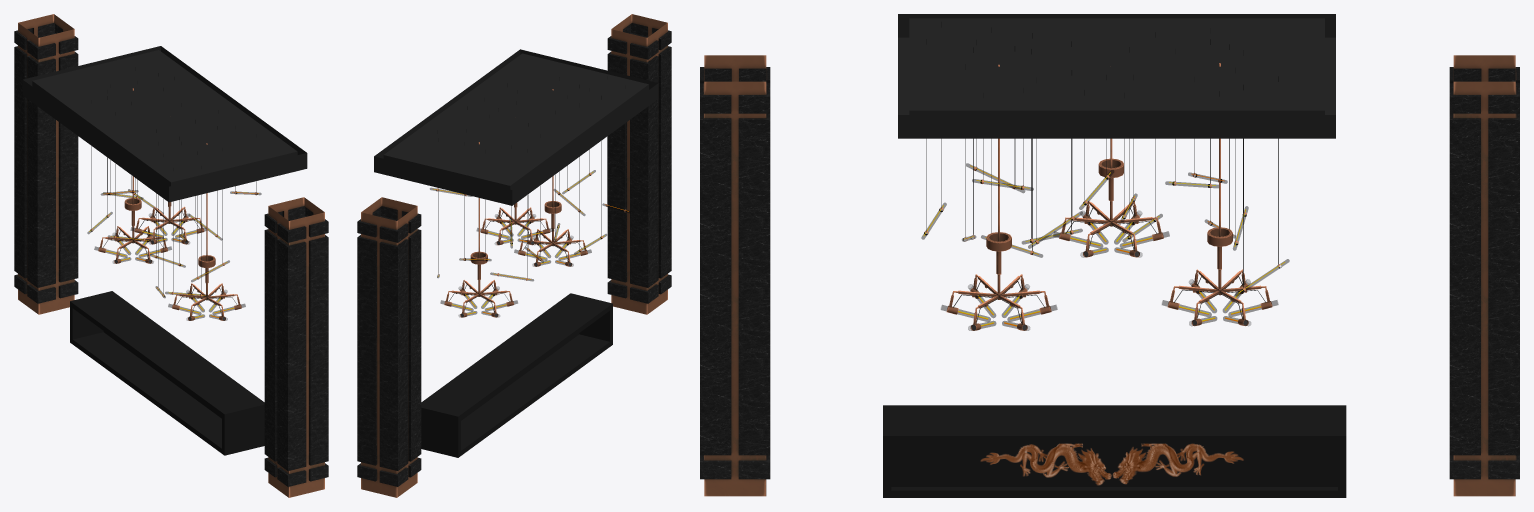
The model's file is reception.gltf.
3 renders of one model, left to right at view 1: azimuth 30°, elevation 25°; view 2: azimuth 150°, elevation 25°; view 3: azimuth 270°, elevation 25°, orthographic. The views are drawn at different scales.
Visible parts, largest first — view 1: bakeREc:bakeREc:low, pCube157, pCube156, bakeREc:bakeREc:low2, bakeREc:bakeREc:HighPoly:HighPoly:Lamp4, Lighter1, Lighter4, Lighter3; view 2: bakeREc:bakeREc:low, pCube156, pCube157, bakeREc:bakeREc:low2, bakeREc:bakeREc:HighPoly:HighPoly:Lamp4, Lighter4, Lighter1, Lighter3; view 3: bakeREc:bakeREc:low, bakeREc:bakeREc:low2, pCube156, pCube157, bakeREc:bakeREc:HighPoly:HighPoly:Lamp4, Lighter1, Lighter4, Lighter3.
Boxes of the visible parts, x1,y1,x2,y2 form: bakeREc:bakeREc:low: (22, 46, 307, 202); pCube157: (264, 197, 328, 497); pCube156: (14, 14, 78, 314); bakeREc:bakeREc:low2: (70, 291, 264, 455); bakeREc:bakeREc:HighPoly:HighPoly:Lamp4: (87, 67, 261, 297); Lighter1: (168, 143, 245, 320); Lighter4: (94, 88, 171, 263); Lighter3: (130, 202, 205, 244); bakeREc:bakeREc:low: (374, 49, 658, 205); pCube156: (357, 197, 421, 497); pCube157: (607, 14, 671, 314); bakeREc:bakeREc:low2: (421, 293, 612, 457); bakeREc:bakeREc:HighPoly:HighPoly:Lamp4: (430, 76, 630, 281); Lighter4: (440, 142, 517, 317); Lighter1: (514, 89, 591, 266); Lighter3: (476, 202, 554, 245); bakeREc:bakeREc:low: (898, 14, 1335, 138); bakeREc:bakeREc:low2: (883, 405, 1346, 497); pCube156: (1449, 55, 1519, 496); pCube157: (700, 55, 770, 496); bakeREc:bakeREc:HighPoly:HighPoly:Lamp4: (921, 22, 1289, 296); Lighter1: (941, 64, 1057, 330); Lighter4: (1162, 63, 1278, 326); Lighter3: (1053, 138, 1169, 257).
Size of the model in its own units: 1.05 by 2.04 by 3.6.
Materials: 10 (4 with a texture image).
